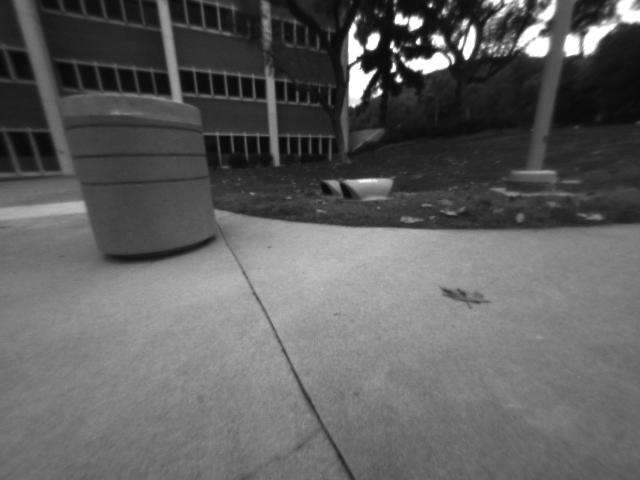trashcan: (57, 92, 223, 256)
